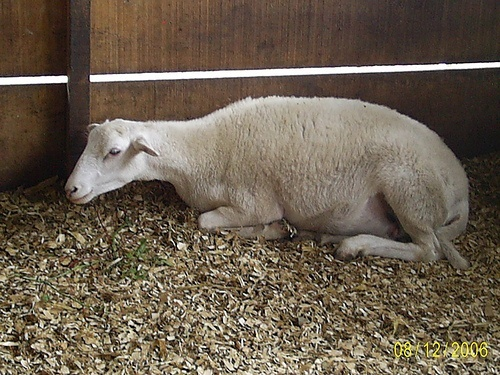sheep: (59, 94, 472, 270)
